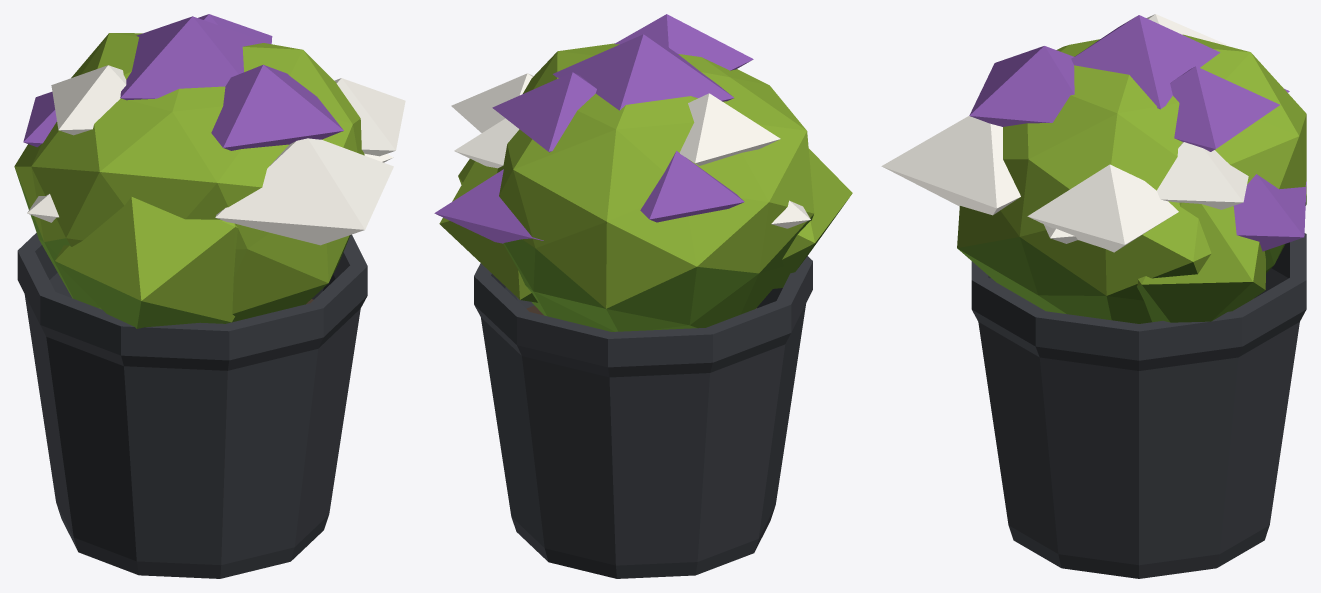
The model's file is SM_Street_Pot_RoundBlack_No4_FlowerPurple_01.gltf.
The picture shows the model from 3 angles, left to right: view 1: azimuth 30°, elevation 25°; view 2: azimuth 150°, elevation 25°; view 3: azimuth 270°, elevation 25°; orthographic projection. The views are drawn at different scales.
Visible parts, largest first — view 1: SM_Street_Pot_RoundBlack_No4_FlowerPurple_01; view 2: SM_Street_Pot_RoundBlack_No4_FlowerPurple_01; view 3: SM_Street_Pot_RoundBlack_No4_FlowerPurple_01.
Boxes of the visible parts, left/top/right/bottom form: SM_Street_Pot_RoundBlack_No4_FlowerPurple_01: left=14, top=14, right=405, bottom=578; SM_Street_Pot_RoundBlack_No4_FlowerPurple_01: left=434, top=14, right=852, bottom=578; SM_Street_Pot_RoundBlack_No4_FlowerPurple_01: left=881, top=14, right=1306, bottom=578.
Bounding box in the file's own units: 0.1477 × 0.191 × 0.1449.
1 material, 1 textured.
